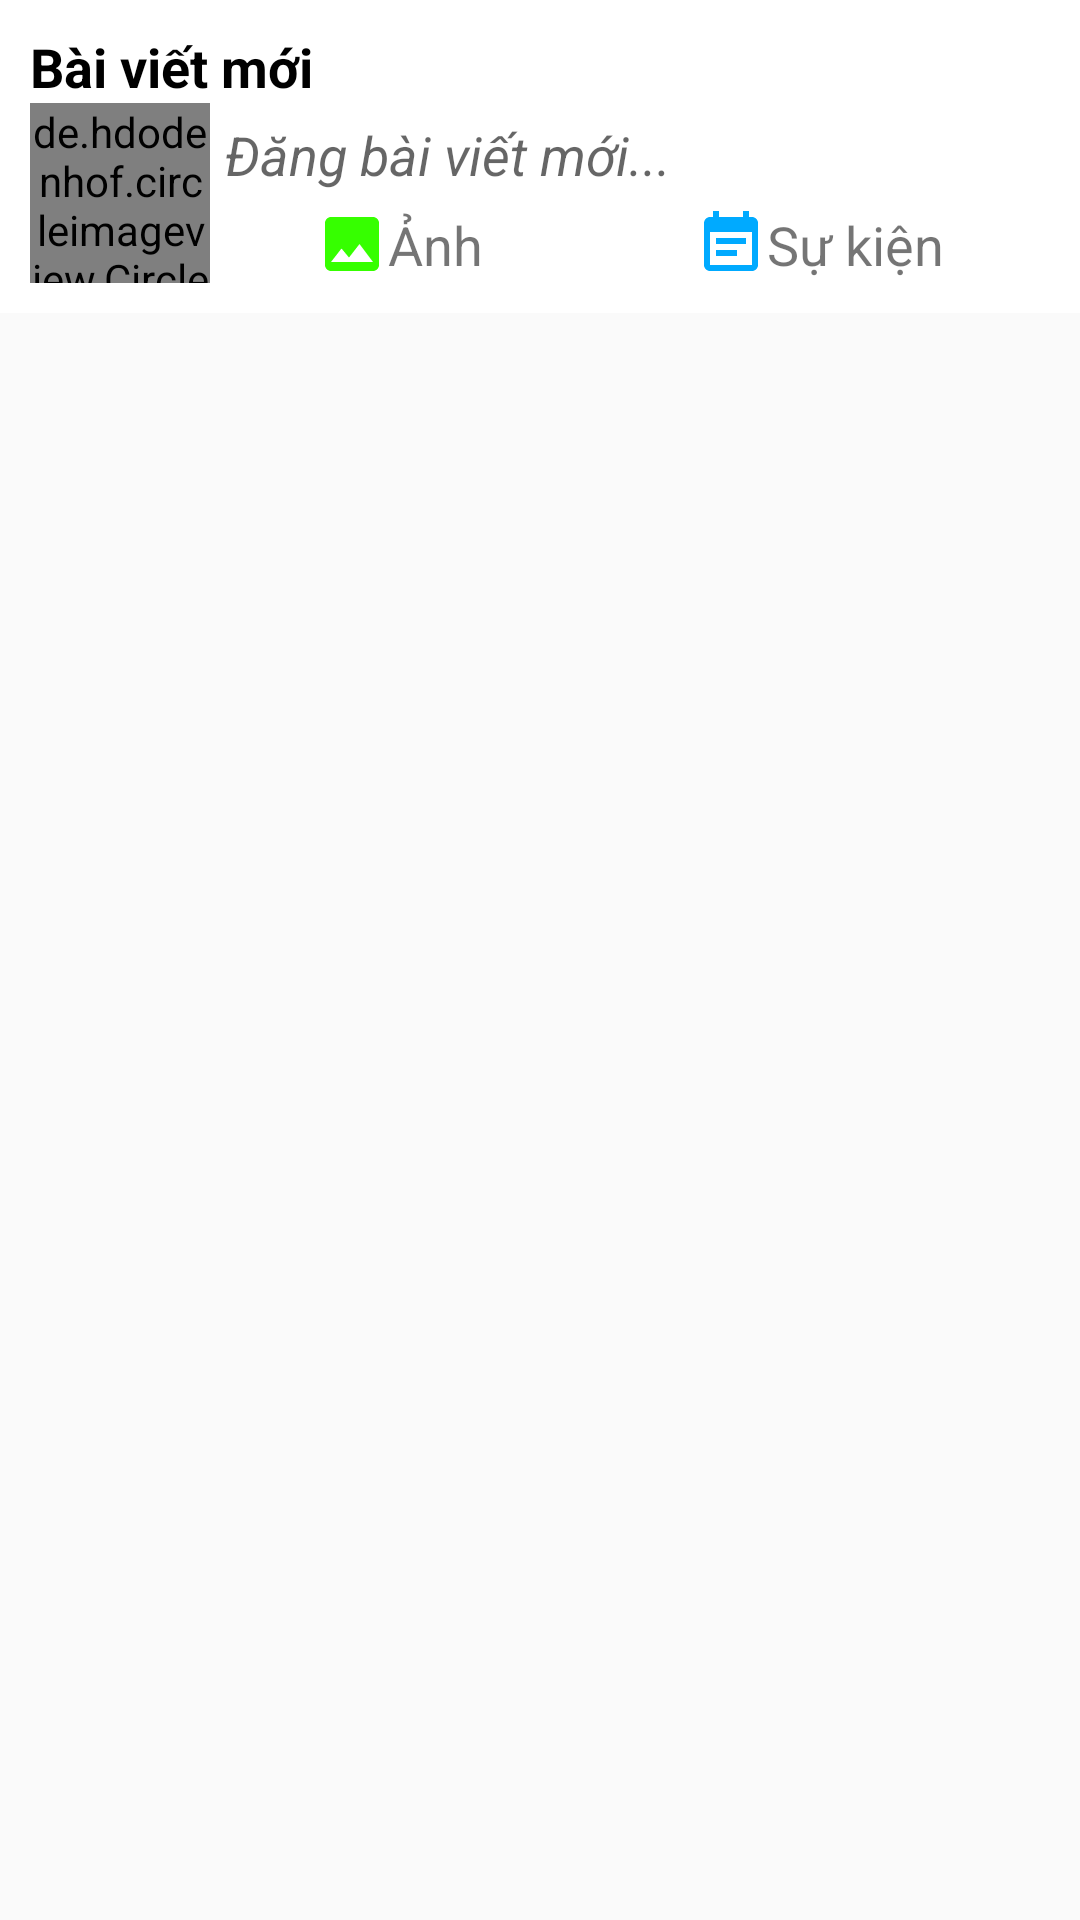

Screen size 1080x1920. Icon name, then its box in pixels as (x1, y1, x2, y2):
event note: (704, 211, 758, 271)
